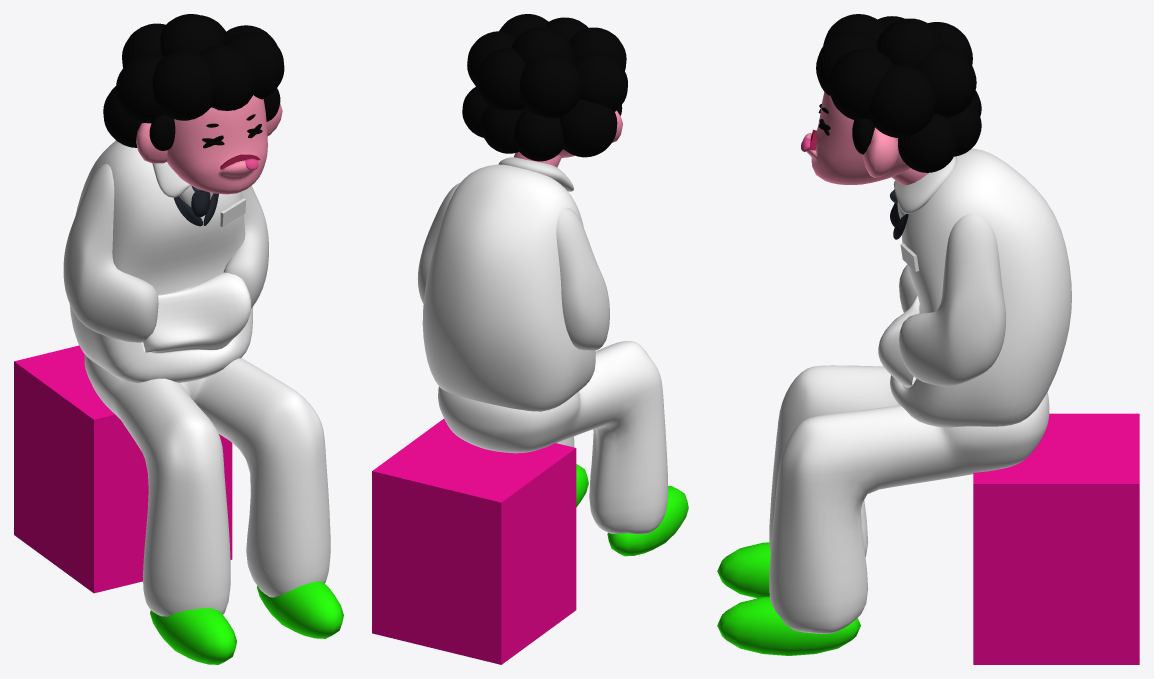
Rendered from student_eww.glb.
3 views of the same model, side by side, from view 1: azimuth 30°, elevation 25°; view 2: azimuth 150°, elevation 25°; view 3: azimuth 270°, elevation 25° (orthographic). The views are drawn at different scales.
Parts seen in each view (by area): view 1: pCube10, pCube9, 1body1, hair, 3-2body, pCube1, pCube13, pCube12, 아이코스피어; view 2: pCube9, 1body1, pCube10, hair, 3-2body, pCube13, 아이코스피어; view 3: pCube9, pCube10, 1body1, hair, 3-2body, pCube1, pCube12, pCube13, 아이코스피어.
Boxes of the visible parts, x1,y1,x2,y2 form: pCube10: (84, 342, 330, 616); pCube9: (14, 345, 232, 593); 1body1: (69, 140, 252, 383); hair: (103, 14, 284, 150); 3-2body: (63, 164, 268, 342); pCube1: (136, 95, 282, 194); pCube13: (150, 608, 236, 664); pCube12: (257, 581, 343, 638); 아이코스피어: (152, 162, 190, 197); pCube9: (372, 419, 576, 664); 1body1: (422, 164, 595, 411); pCube10: (438, 341, 667, 534); hair: (462, 14, 627, 161); 3-2body: (417, 182, 609, 350); pCube13: (607, 486, 688, 556); 아이코스피어: (498, 157, 573, 191); pCube9: (973, 413, 1139, 664); pCube10: (769, 365, 1049, 633); 1body1: (878, 148, 1071, 427); hair: (816, 14, 981, 172); 3-2body: (899, 214, 1005, 386); pCube1: (803, 92, 928, 185); pCube12: (717, 596, 860, 655); pCube13: (717, 542, 770, 598); 아이코스피어: (893, 156, 956, 213).
Size of the model in its own units: 0.4183 by 1.21 by 0.7618.
